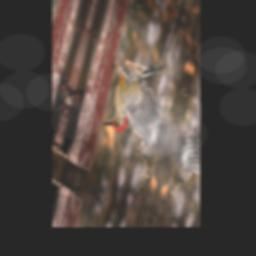Woodpecker: (101, 39, 186, 167)
